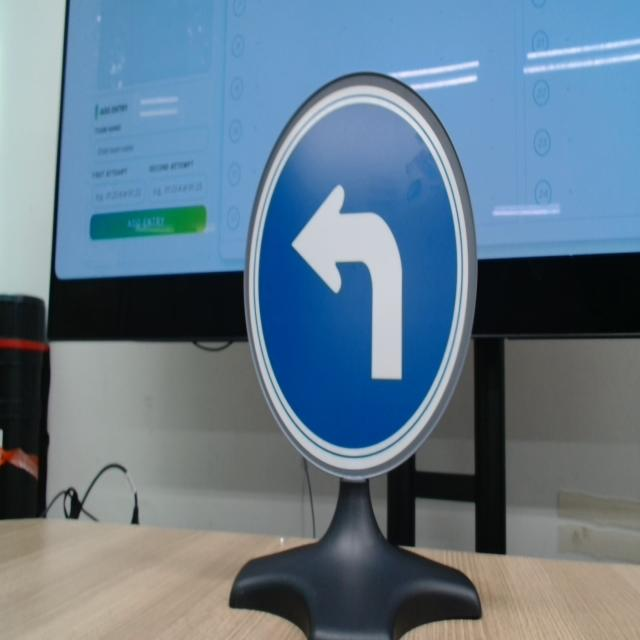left_direction: (236, 51, 487, 496)
